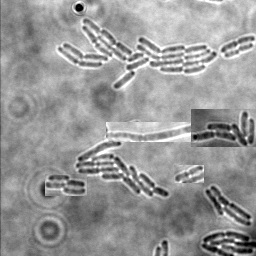Dividing: (219, 34, 255, 52), (117, 99, 152, 114), (223, 41, 253, 57)
Microcolony: (57, 18, 216, 89), (75, 120, 169, 197), (115, 114, 149, 182), (204, 184, 251, 226), (200, 230, 255, 255), (109, 162, 128, 198)
